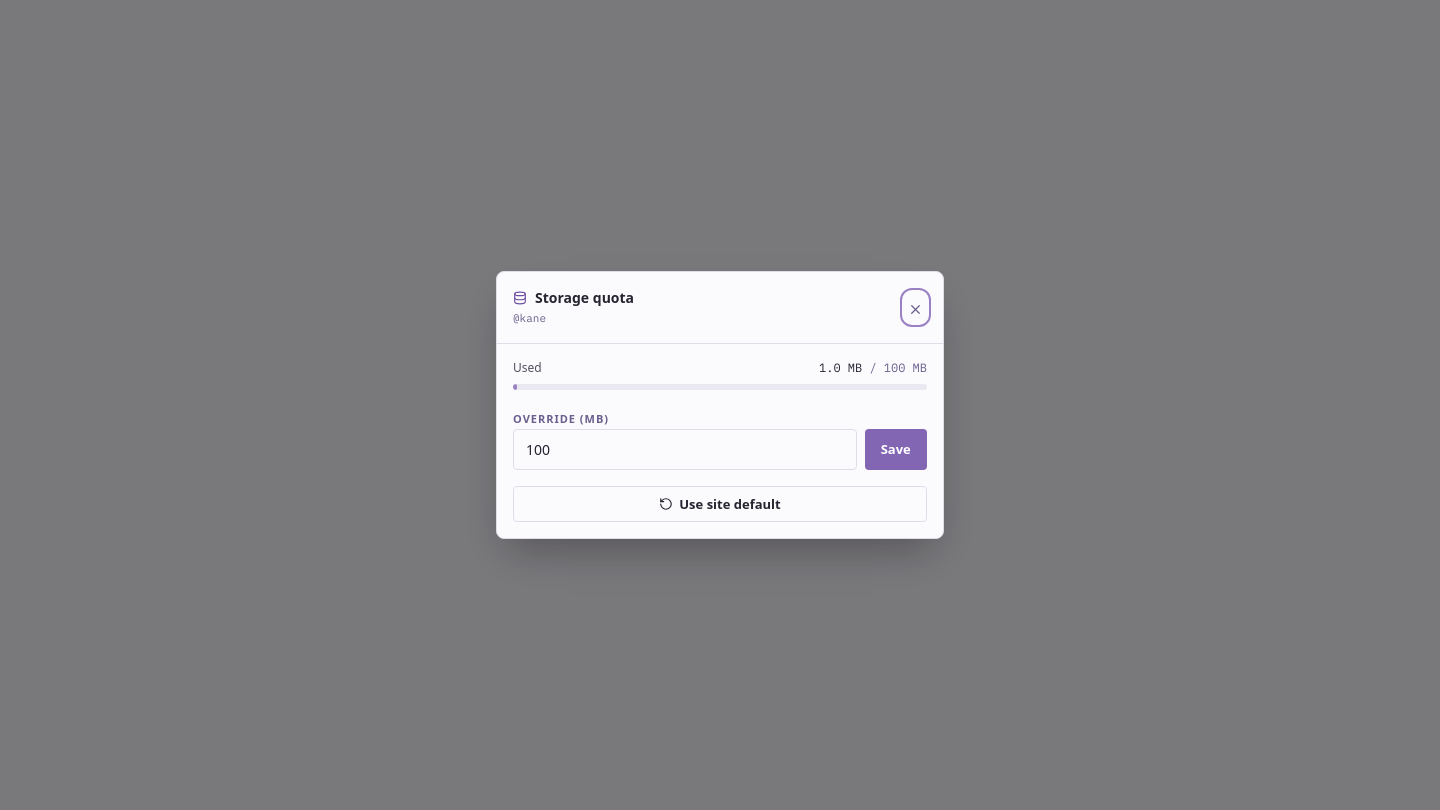
Test: QuotaModal › refuses an empty size and points at the default reset
The width and height of the screenshot is (1440, 810).
Clear the number field labelled "Override (MB)" at (685, 450), box [513,429,856,470]
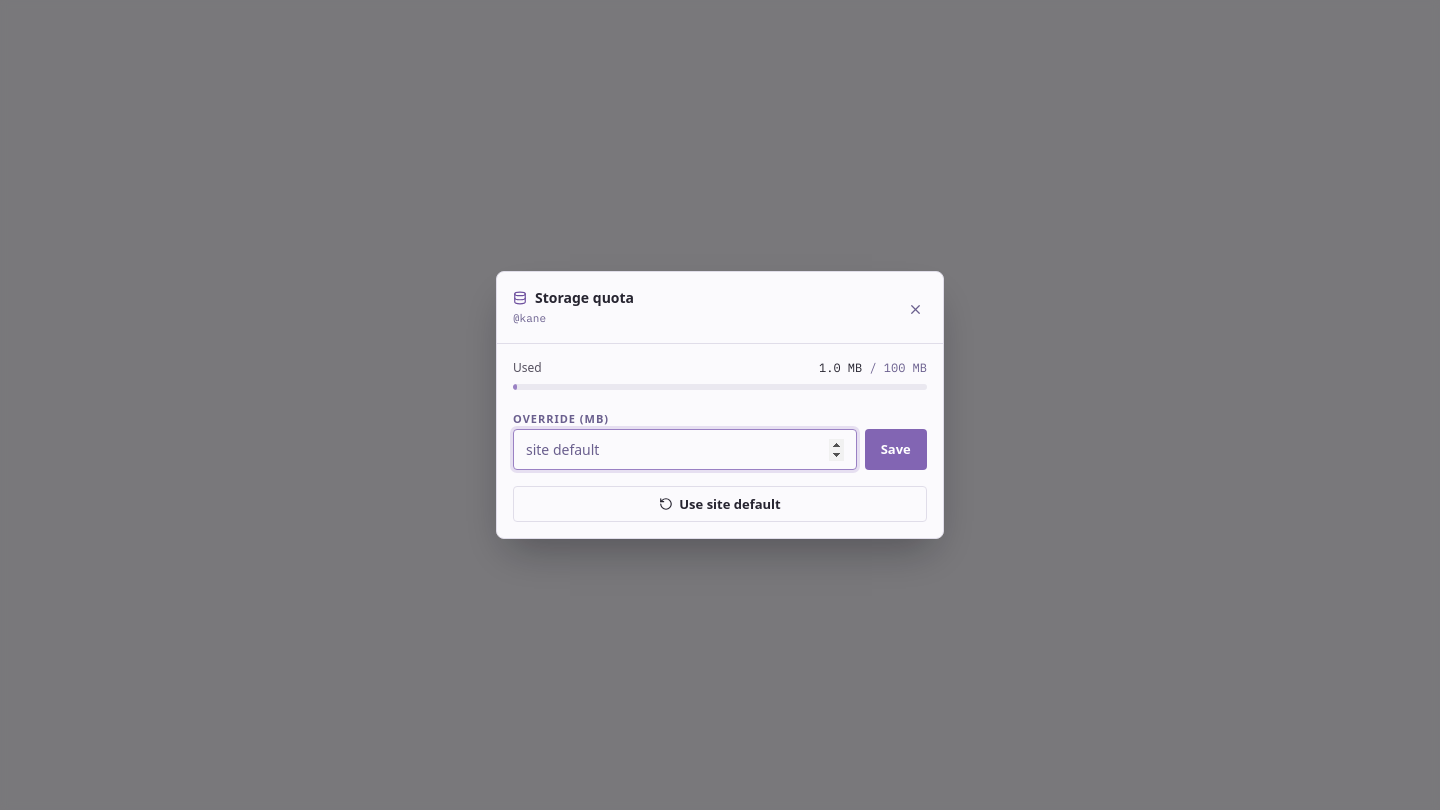
Click the button "Save" at (896, 450), box [864,429,927,470]
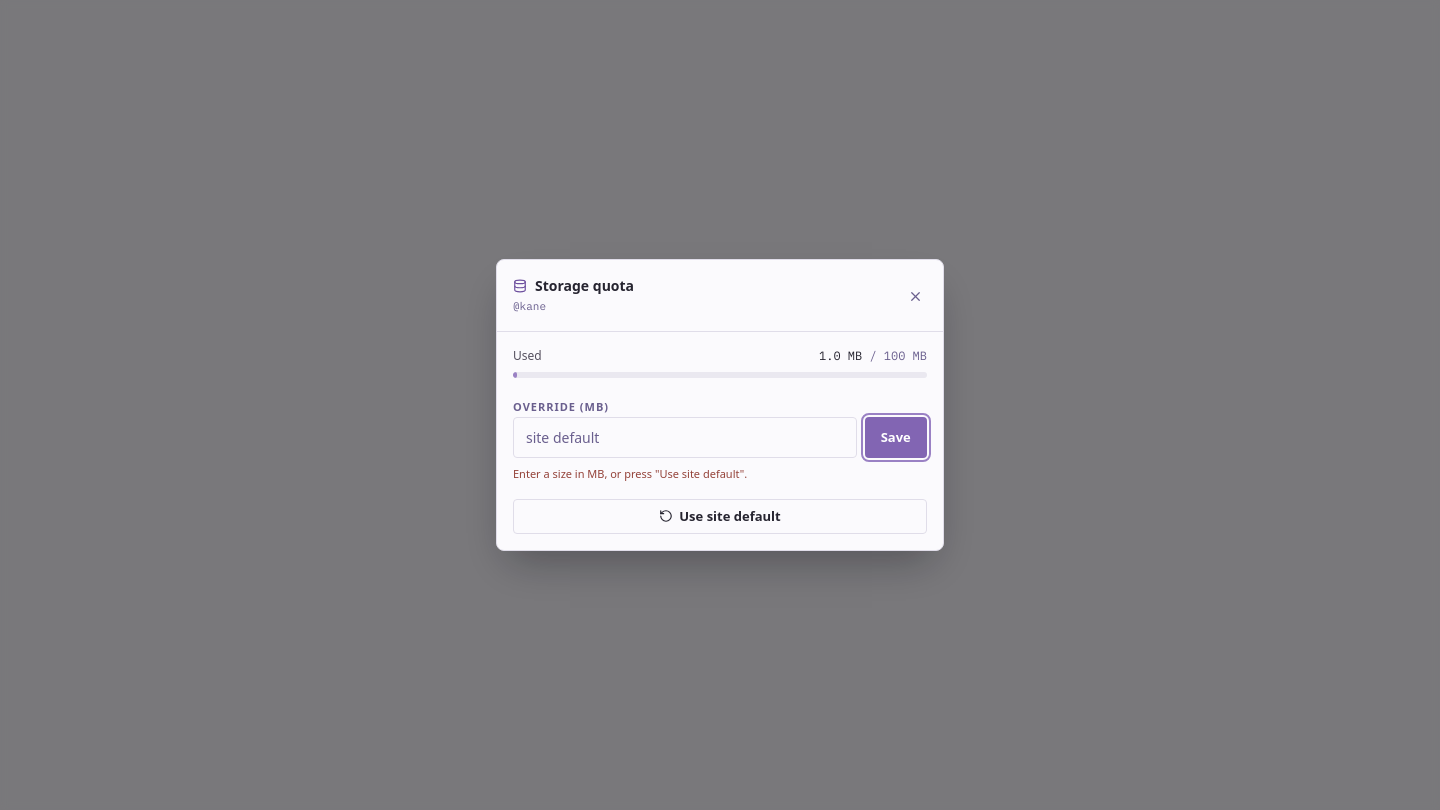
Expected: the text "Enter a size in MB, or press \"Use site default\"." is shown, [513,466,747,481]
